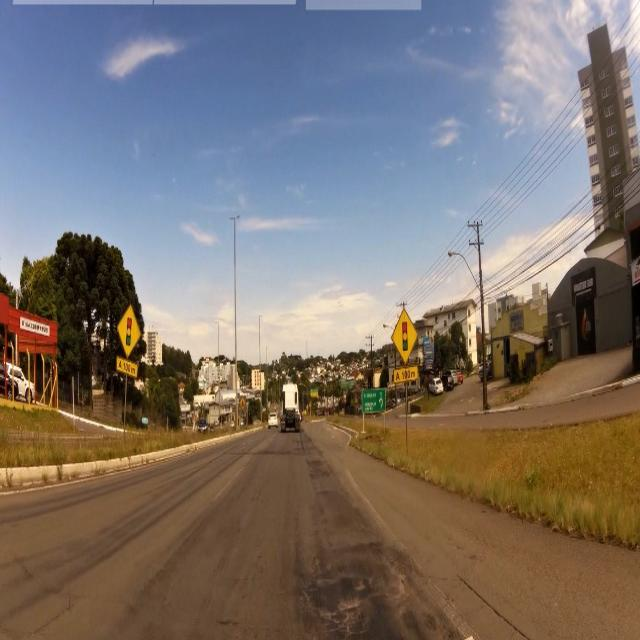A-14: (392, 309, 418, 366), (116, 304, 142, 360)
